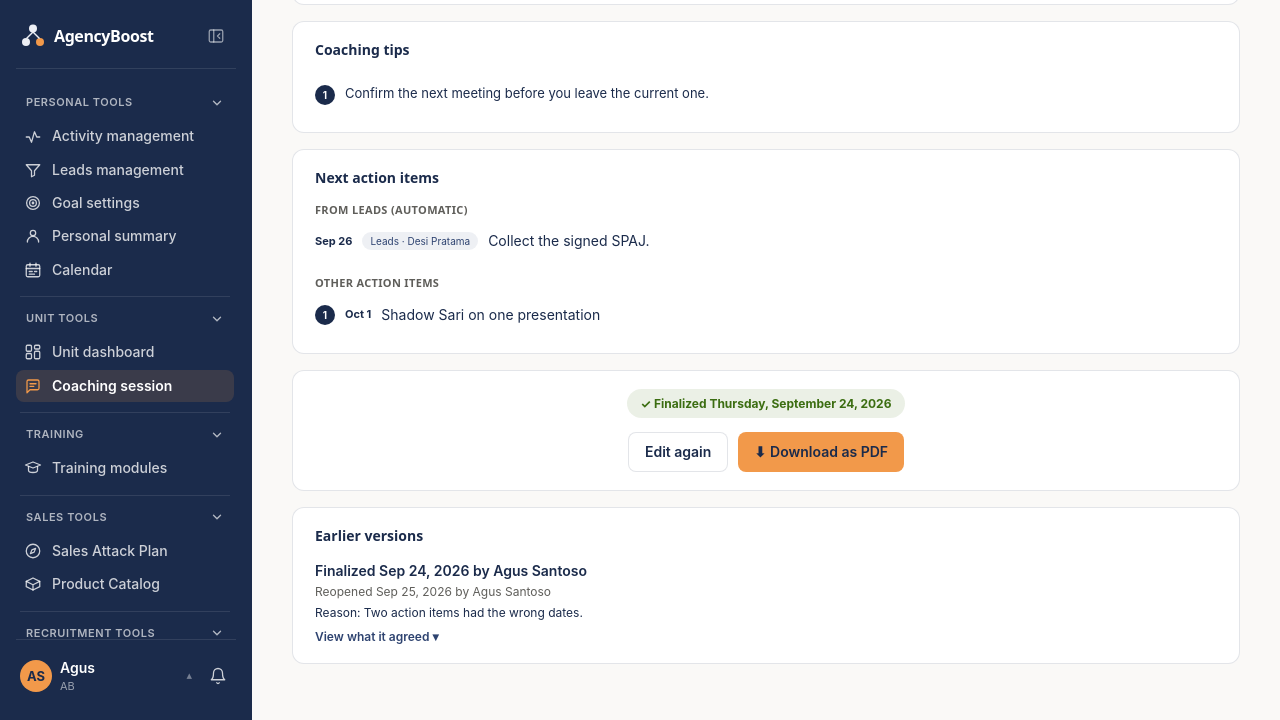
it: a past session’s archive (P11-T10) › Edit again › P11-T10 reads the session again on a version conflict, and closes the dialog
(page scrolled)
Step 1. Click the button "Edit again" → (678, 452), box [628,432,728,472]
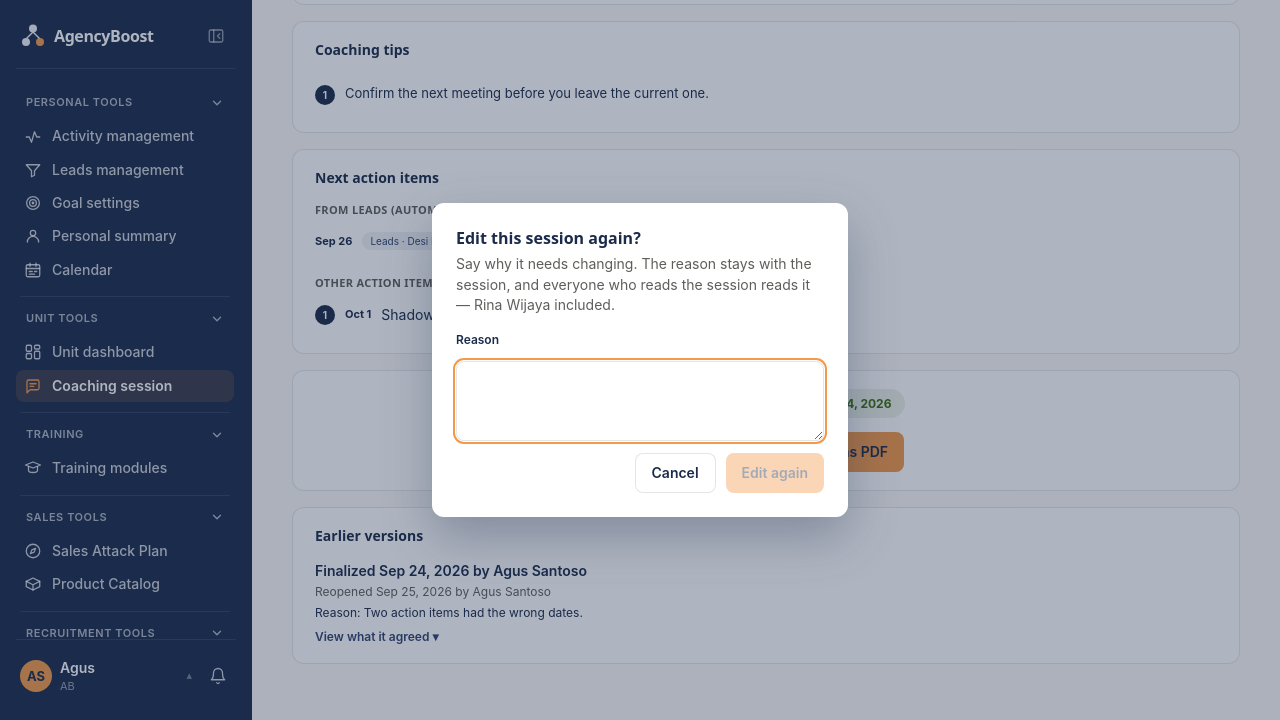
Step 2. Type "A typo" into the text box labelled "Reason" → (640, 401), box [456,361,824,441]
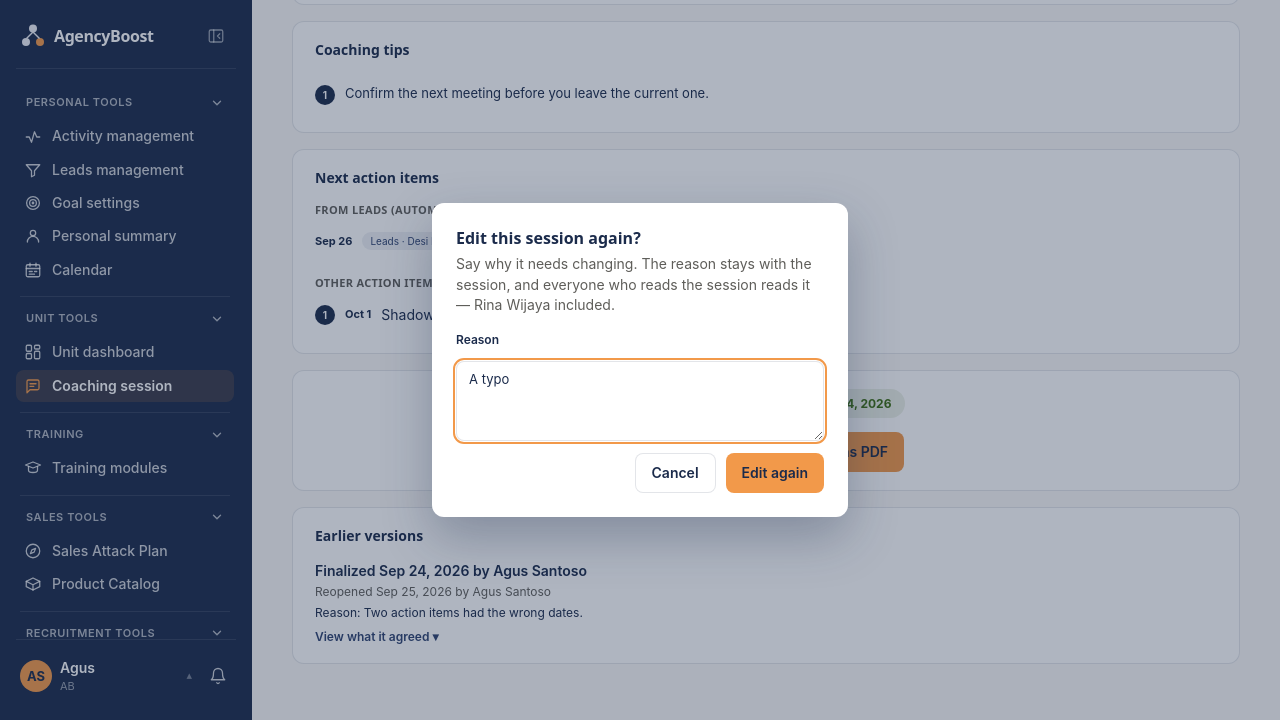
Step 3. Click the button "Edit again" → (775, 473), box [726,453,824,493]
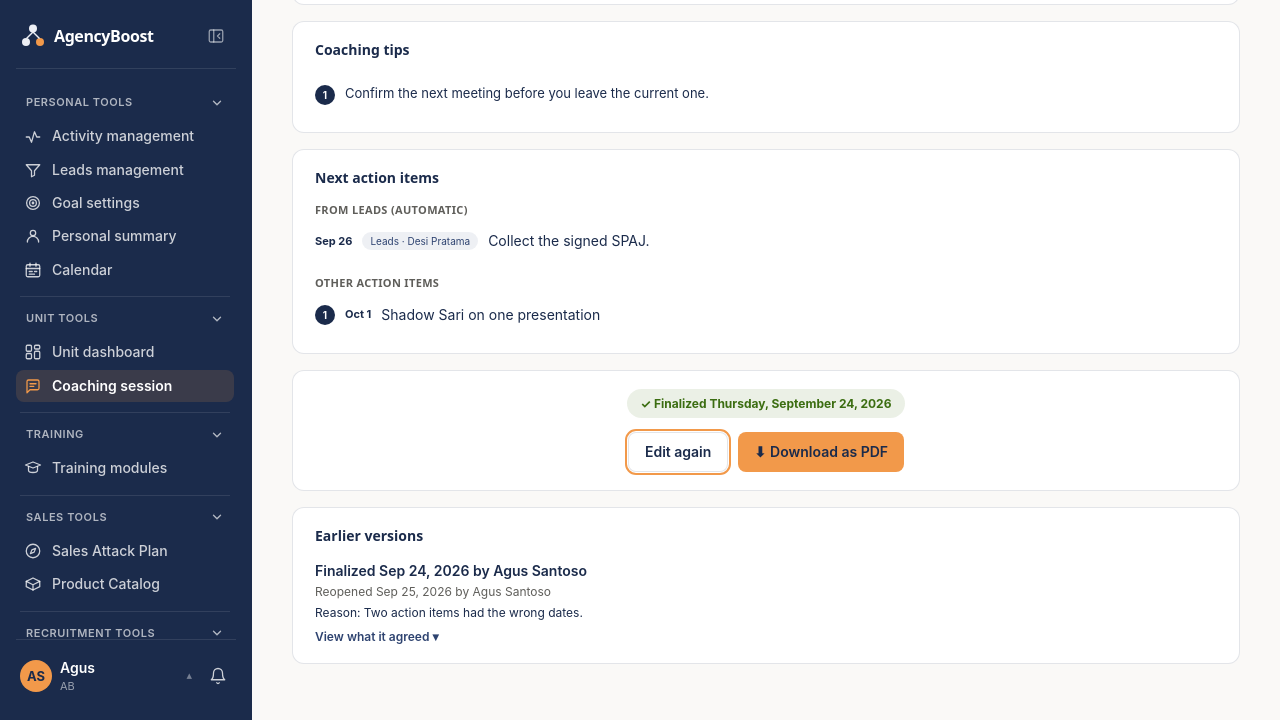
Now the dialog is gone
